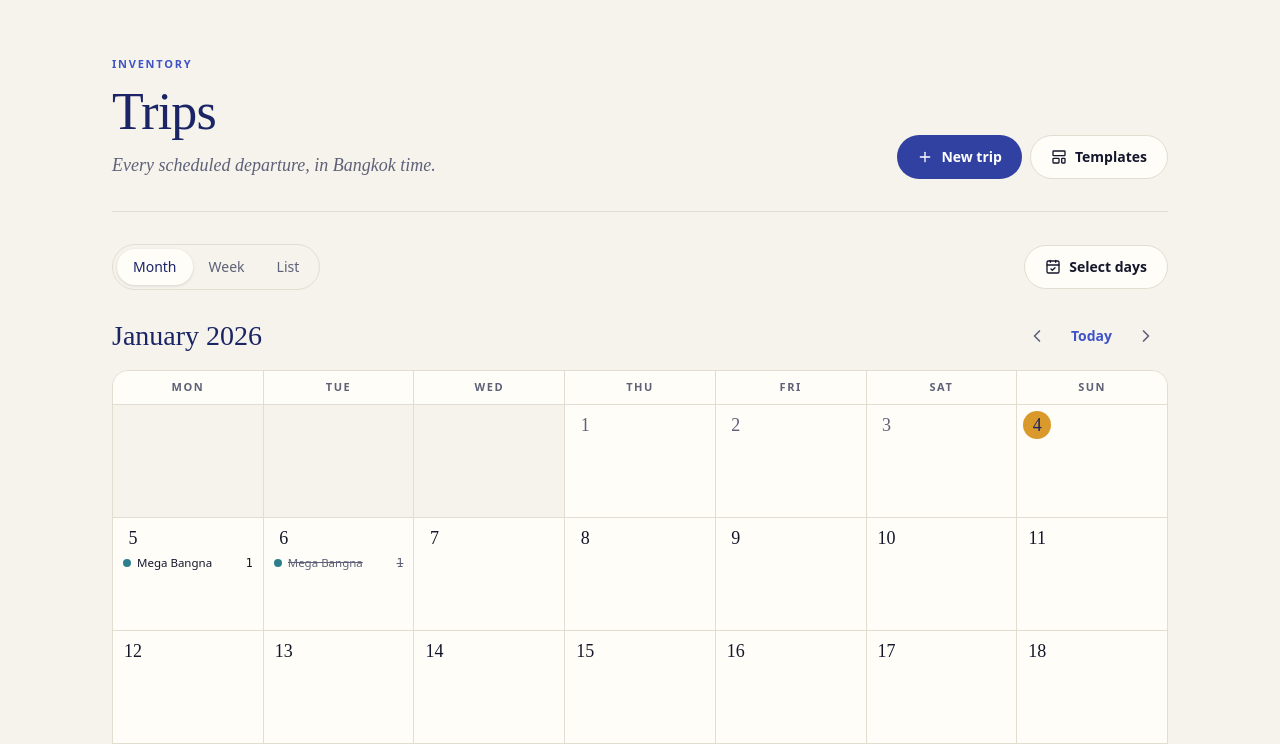
AdminTripsPage moving and cancelled trips › shows the reason beside a cancelled departure in the day drawer
The width and height of the screenshot is (1280, 744).
Click the button with aria-label "Tuesday 6 January, 1 departure" at (339, 574), box [264,518,413,630]
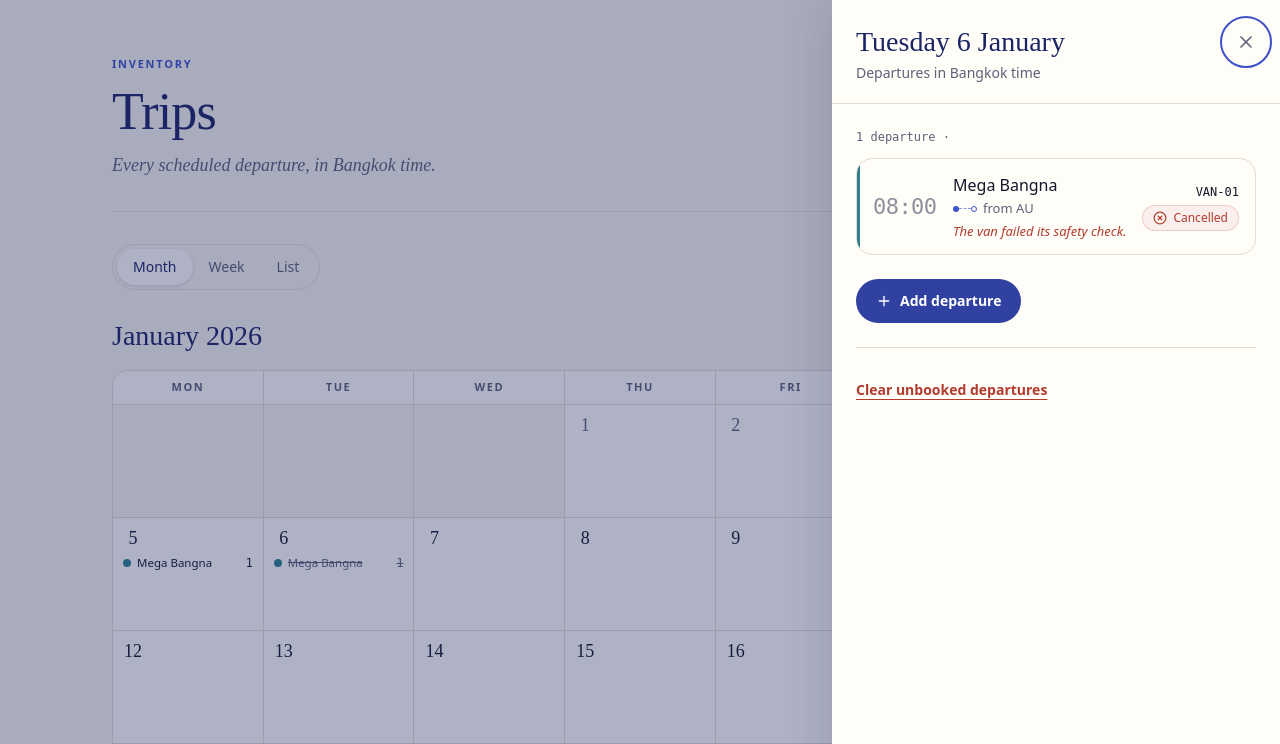
Expected: the button with aria-label "Open the cancelled 08:00 to Mega Bangna" shows "The van failed its safety check.", [857,159,1255,254]
